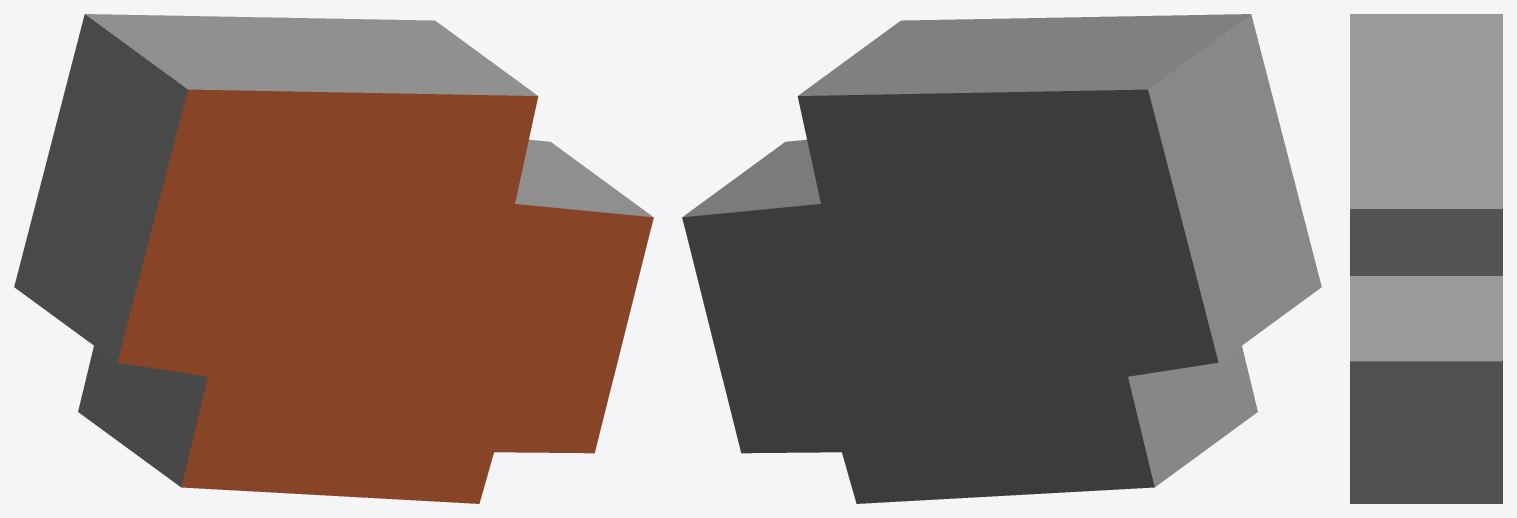
Rendered from construction_4144_assumed_A_Casa_h6m.obj.
The picture shows the model from 3 angles, left to right: view 1: azimuth 30°, elevation 25°; view 2: azimuth 150°, elevation 25°; view 3: azimuth 270°, elevation 25°; orthographic projection. The views are drawn at different scales.
Visible parts, largest first — view 1: construction_4144_assumed_A_Casa; view 2: construction_4144_assumed_A_Casa; view 3: construction_4144_assumed_A_Casa.
Boxes of the visible parts, bbox=[...] form: construction_4144_assumed_A_Casa: bbox=[14, 14, 653, 503]; construction_4144_assumed_A_Casa: bbox=[682, 14, 1321, 503]; construction_4144_assumed_A_Casa: bbox=[1350, 14, 1502, 503].
Size of the model in its own units: 18.01 by 15.57 by 6.
